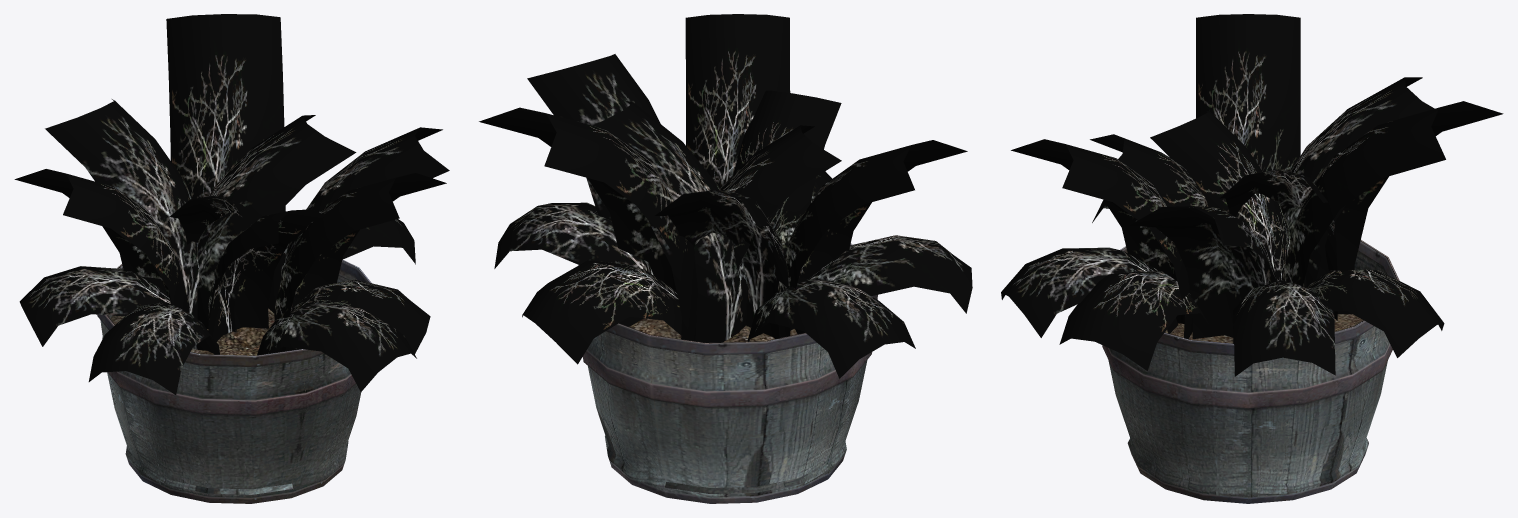
Rendered from flower_barrel_dead.glb.
3 renders of one model, left to right at view 1: azimuth 30°, elevation 25°; view 2: azimuth 150°, elevation 25°; view 3: azimuth 270°, elevation 25°, orthographic. The views are drawn at different scales.
Visible parts, largest first — view 1: flower_barrel_dead; view 2: flower_barrel_dead; view 3: flower_barrel_dead.
Part boxes in pixels (x1,y1,x2,y2): flower_barrel_dead: (14,14,449,503); flower_barrel_dead: (479,14,972,503); flower_barrel_dead: (1001,14,1503,503).
Bounding box in the file's own units: 1.21 × 1.06 × 1.24.
Materials: 1 (1 with a texture image).
